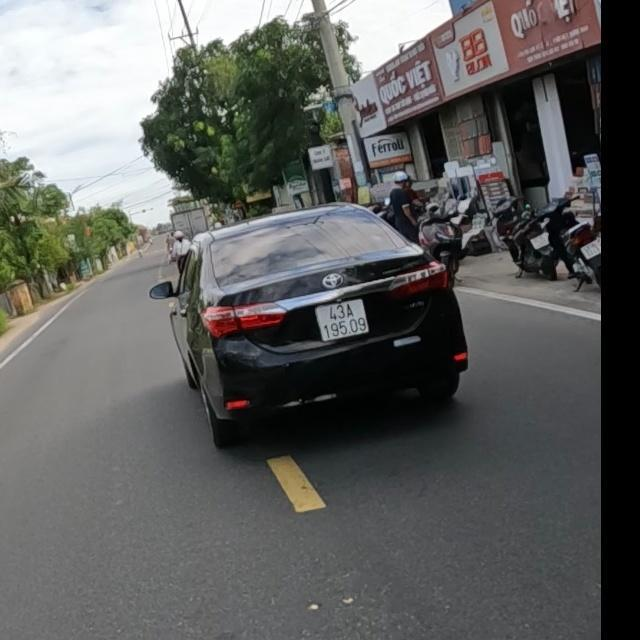car: (146, 196, 482, 454)
plate: (306, 295, 372, 346)
